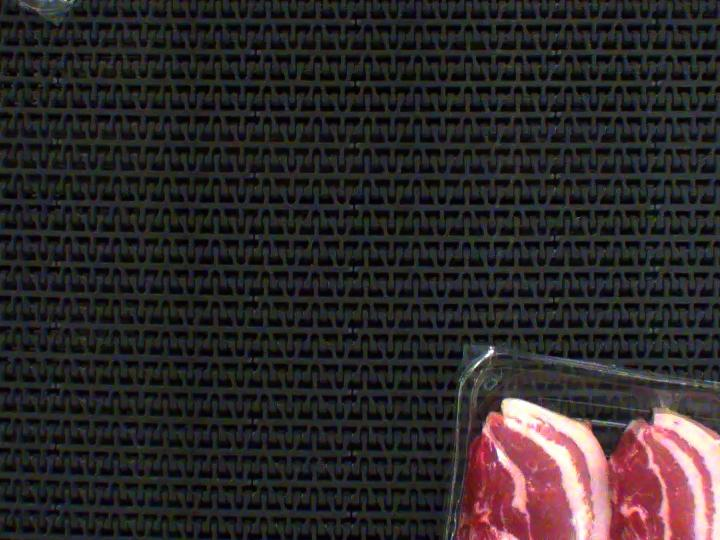packaging-error: (652, 382, 691, 418)
